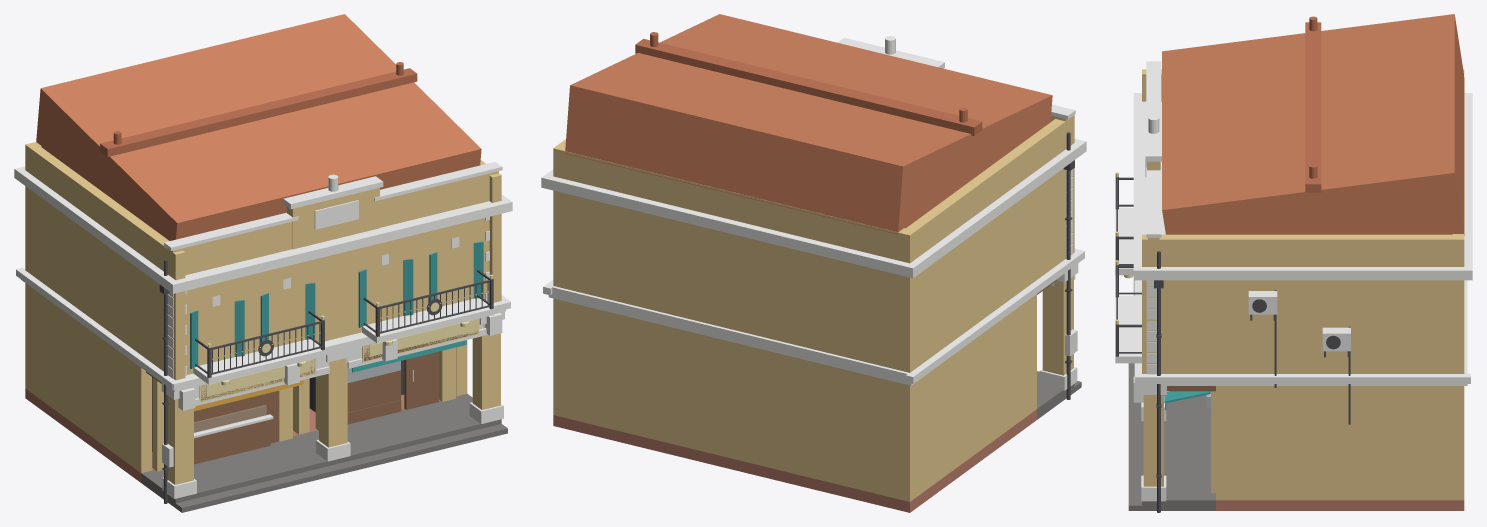
File: building_commercial_arcade_01.glb
3 views of the same model, side by side, from view 1: azimuth 30°, elevation 25°; view 2: azimuth 150°, elevation 25°; view 3: azimuth 270°, elevation 25° (orthographic). The views are drawn at different scales.
Visible parts, largest first — view 1: Building_StuccoOchre, Building_TerracottaRoof, Building_WhiteMoulding, Building_PlinthGranite, Building_TeakTimber, Building_TerracottaRidge, Building_WroughtIron, Building_CoastalTeal, Building_PolishedBrass, Building_PlinthLaterite, Building_ArchitecturalGlass, Building_StripedAwningB (+2 smaller); view 2: Building_StuccoOchre, Building_TerracottaRoof, Building_WhiteMoulding, Building_TerracottaRidge, Building_PlinthLaterite, Building_WroughtIron, Building_PlinthGranite; view 3: Building_StuccoOchre, Building_TerracottaRoof, Building_WhiteMoulding, Building_PlinthGranite, Building_TerracottaRidge, Building_PlinthLaterite, Building_WroughtIron, Building_ACEnclosure.
Boxes of the visible parts, bbox=[...] form: Building_StuccoOchre: bbox=[25, 142, 501, 484]; Building_TerracottaRoof: bbox=[36, 14, 481, 240]; Building_WhiteMoulding: bbox=[14, 161, 512, 498]; Building_PlinthGranite: bbox=[141, 393, 507, 512]; Building_TeakTimber: bbox=[146, 331, 477, 464]; Building_TerracottaRidge: bbox=[100, 62, 417, 156]; Building_WroughtIron: bbox=[159, 259, 493, 503]; Building_CoastalTeal: bbox=[190, 241, 483, 368]; Building_PolishedBrass: bbox=[199, 274, 492, 402]; Building_PlinthLaterite: bbox=[25, 388, 439, 482]; Building_ArchitecturalGlass: bbox=[194, 405, 266, 433]; Building_StripedAwningB: bbox=[352, 340, 466, 372]; Building_StuccoOchre: bbox=[553, 115, 1074, 501]; Building_TerracottaRoof: bbox=[565, 14, 1052, 234]; Building_WhiteMoulding: bbox=[541, 36, 1086, 390]; Building_TerracottaRidge: bbox=[635, 32, 982, 135]; Building_PlinthLaterite: bbox=[553, 409, 1036, 512]; Building_WroughtIron: bbox=[1063, 132, 1074, 399]; Building_PlinthGranite: bbox=[1037, 371, 1081, 419]; Building_StuccoOchre: bbox=[1142, 69, 1464, 500]; Building_TerracottaRoof: bbox=[1162, 14, 1464, 235]; Building_WhiteMoulding: bbox=[1115, 61, 1472, 501]; Building_PlinthGranite: bbox=[1128, 363, 1215, 510]; Building_TerracottaRidge: bbox=[1305, 16, 1321, 192]; Building_PlinthLaterite: bbox=[1216, 500, 1464, 510]; Building_WroughtIron: bbox=[1115, 177, 1349, 512]; Building_ACEnclosure: bbox=[1248, 291, 1350, 351].
Size of what is drawn, in the model's own units: 12.94 by 10.97 by 10.65.
